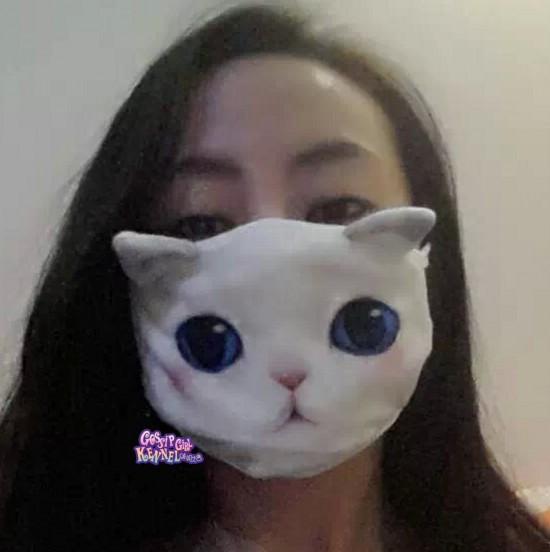face_mask: (127, 44, 417, 453)
